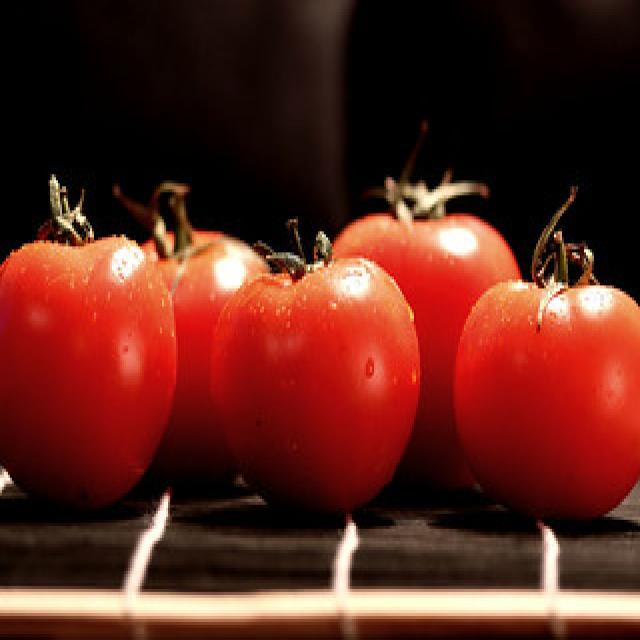Tomato: (210, 250, 425, 517), (324, 201, 524, 477), (0, 223, 175, 512), (451, 266, 640, 526), (98, 228, 274, 474)
